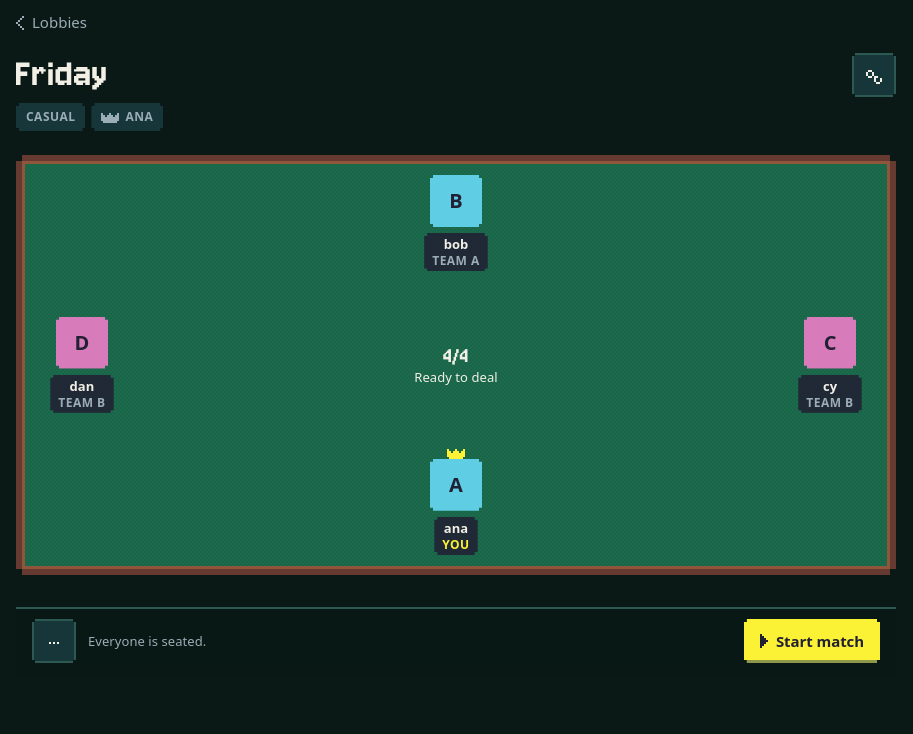
Scenario: LobbyRoom: start and follow (spec §4.7 Data) › a refused start shows the server message
The width and height of the screenshot is (913, 734).
Click the button "Start match".
click(812, 641)  # box [744,619,880,663]
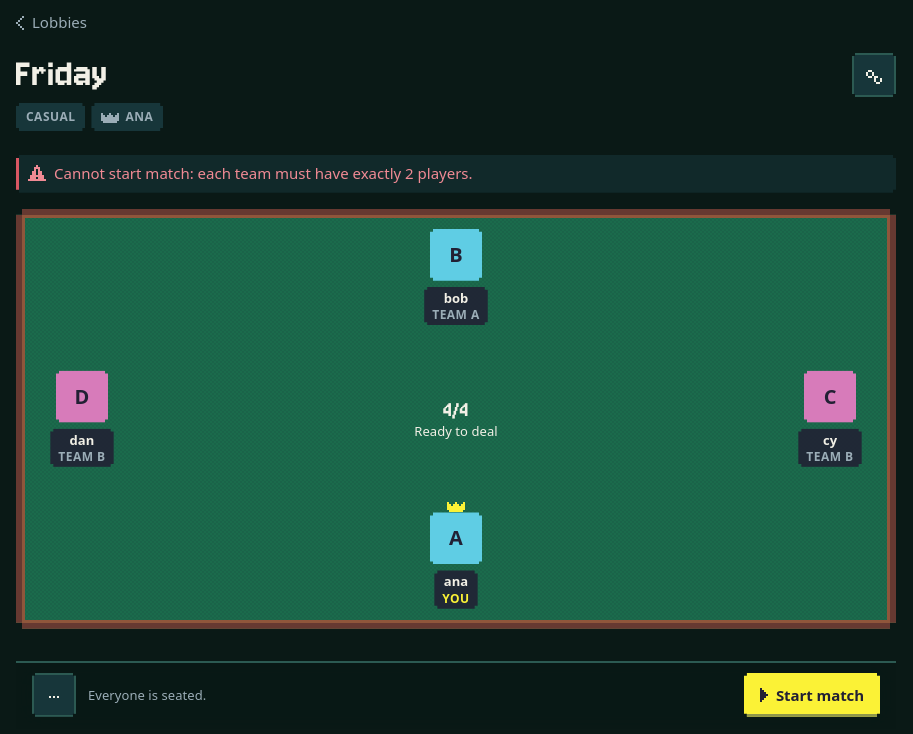
Expected: the button "Start match" is enabled, [744,673,880,717]
Expected: the message reads "Cannot start match: each team must have exactly 2 players.", [54,163,473,183]
